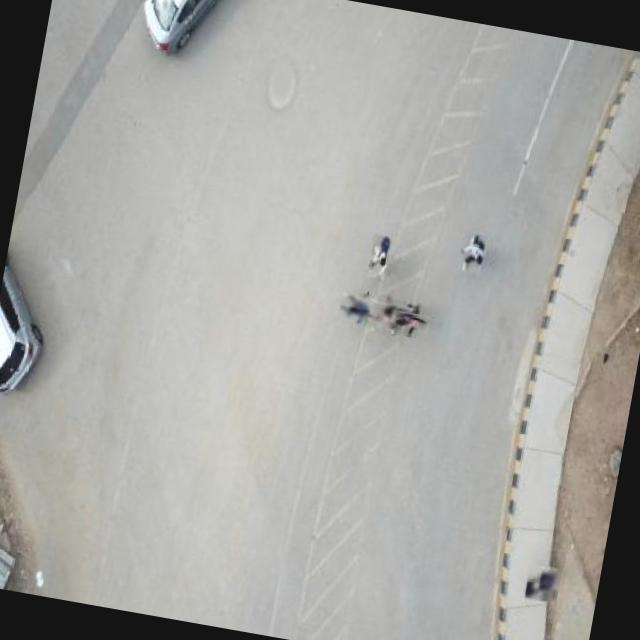Person: (524, 562, 560, 604), (457, 231, 488, 275), (367, 233, 392, 280), (376, 298, 410, 332), (342, 290, 374, 322), (396, 304, 426, 336)
